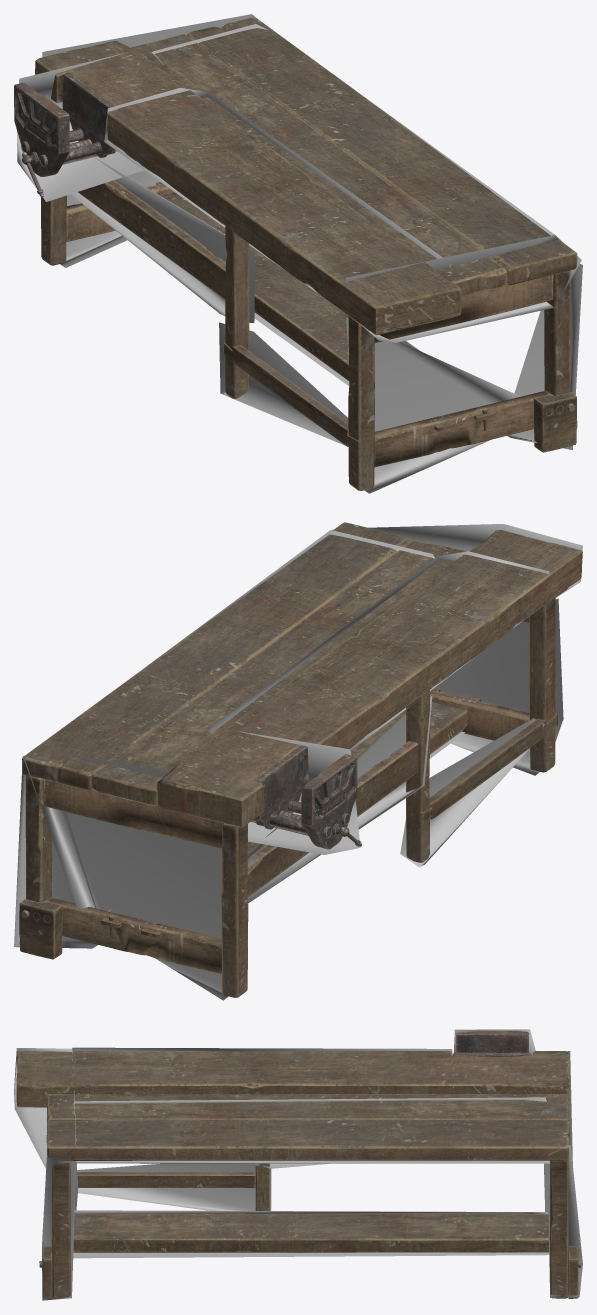
The model's file is SM_Workbench_01.gltf.
3 renders of one model, top to bottom at view 1: azimuth 30°, elevation 25°; view 2: azimuth 150°, elevation 25°; view 3: azimuth 270°, elevation 25°, orthographic. The views are drawn at different scales.
Parts seen in each view (by area): view 1: SM_Workbench_01_LOD0, SM_Workbench_01_ConvexHulls; view 2: SM_Workbench_01_LOD0, SM_Workbench_01_ConvexHulls; view 3: SM_Workbench_01_LOD0, SM_Workbench_01_ConvexHulls.
Part boxes in pixels (box(x1,y1,x2,y2)): SM_Workbench_01_LOD0: box(14, 17, 577, 490); SM_Workbench_01_ConvexHulls: box(17, 14, 582, 493); SM_Workbench_01_LOD0: box(19, 522, 582, 997); SM_Workbench_01_ConvexHulls: box(14, 524, 582, 1000); SM_Workbench_01_LOD0: box(16, 1031, 581, 1298); SM_Workbench_01_ConvexHulls: box(14, 1029, 582, 1300).
Size of what is drawn, in the model's own units: 1.75 by 1.24 by 3.71.
